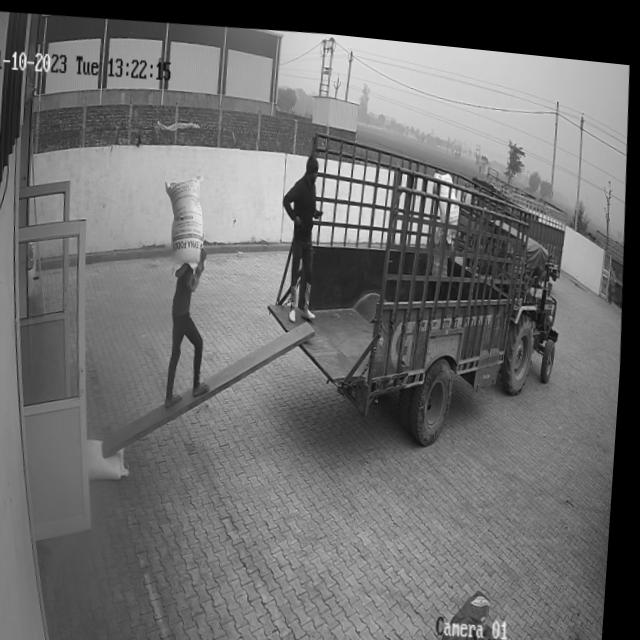sack: (161, 168, 209, 273), (92, 435, 136, 479)
